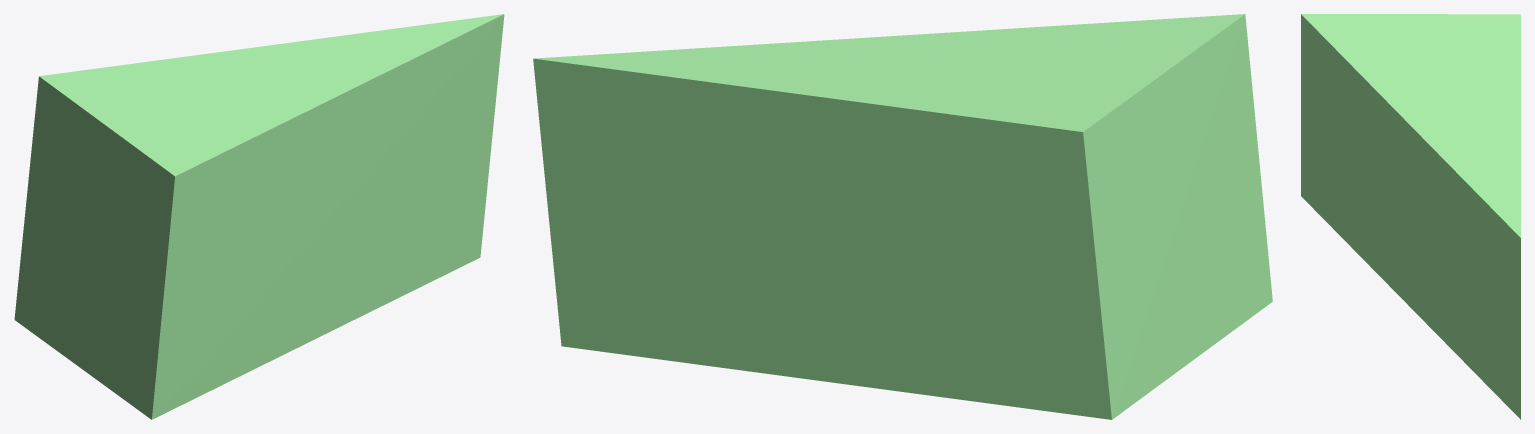
The model's file is UMIRobot_robot_base_coll_27.dae.
3 renders of one model, left to right at view 1: azimuth 30°, elevation 25°; view 2: azimuth 150°, elevation 25°; view 3: azimuth 270°, elevation 25°, orthographic. The views are drawn at different scales.
Visible parts, largest first — view 1: node; view 2: node; view 3: node.
Boxes of the visible parts, x1,y1,x2,y2 form: node: (14, 14, 504, 419); node: (533, 14, 1272, 419); node: (1301, 14, 1520, 419).
Bounding box in the file's own units: 0.0424 × 0.0239 × 0.0205.
